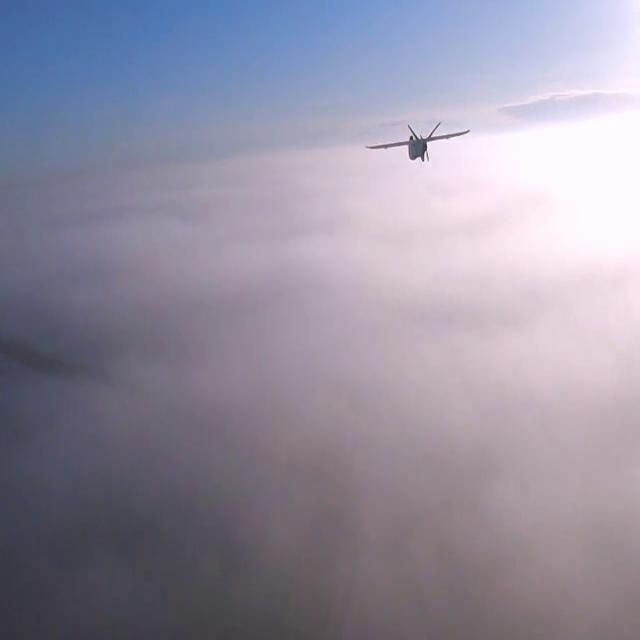iha: (397, 124, 439, 166)
